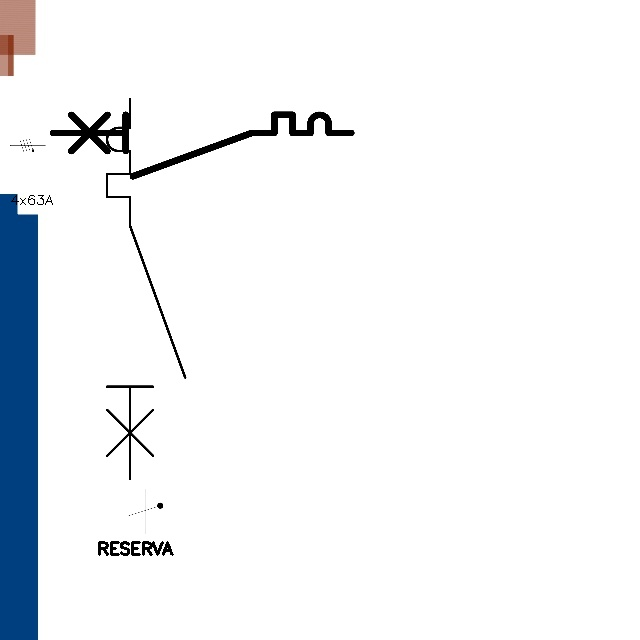interruptor_termomagnetico: (97, 89, 195, 489), (45, 107, 359, 184)
